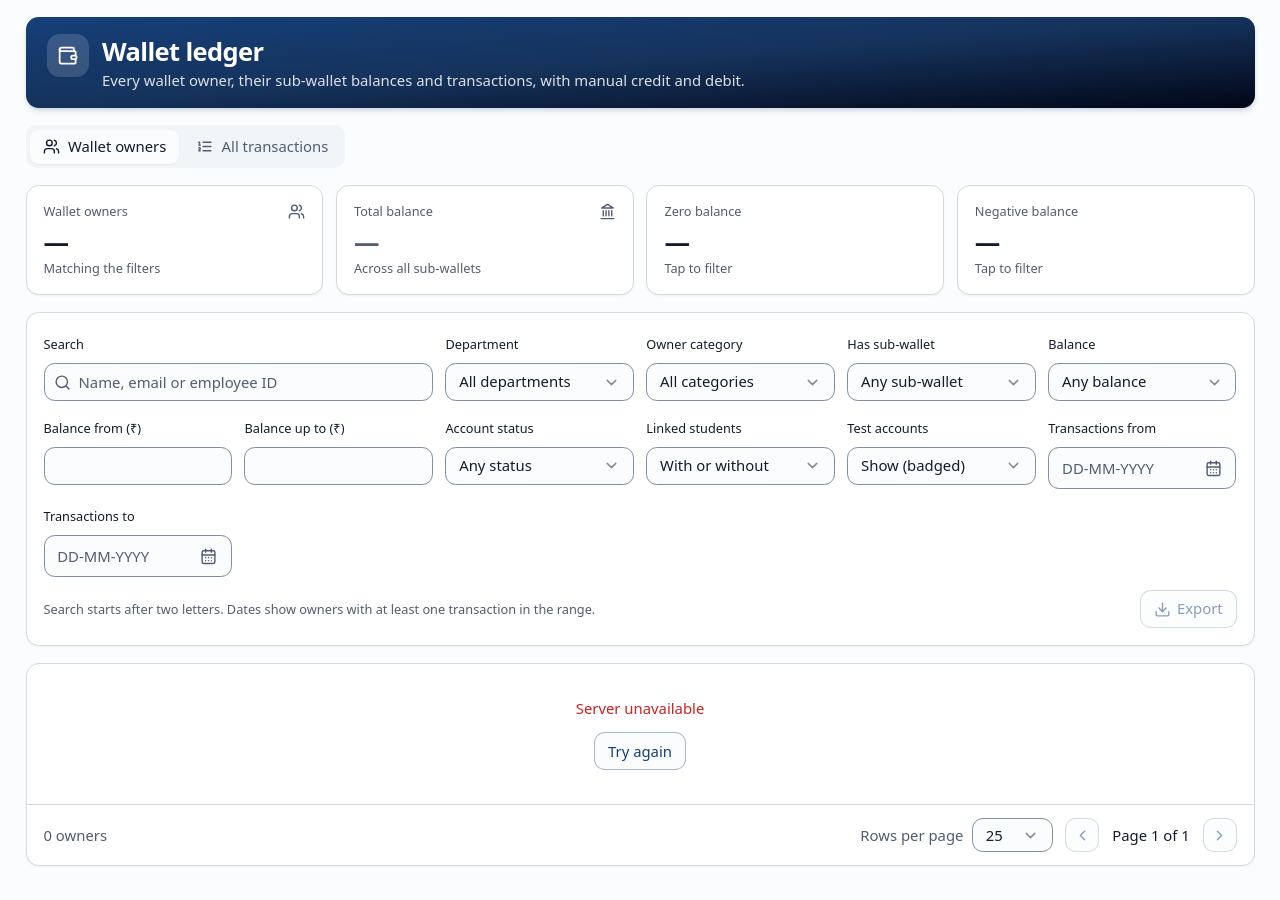
Scenario: Wallet owners › shows an error with a retry
Expected: the text "Server unavailable" is shown, [576,698,704,720]
Click the button "Try again".
click(640, 751)  # box [594,732,686,770]
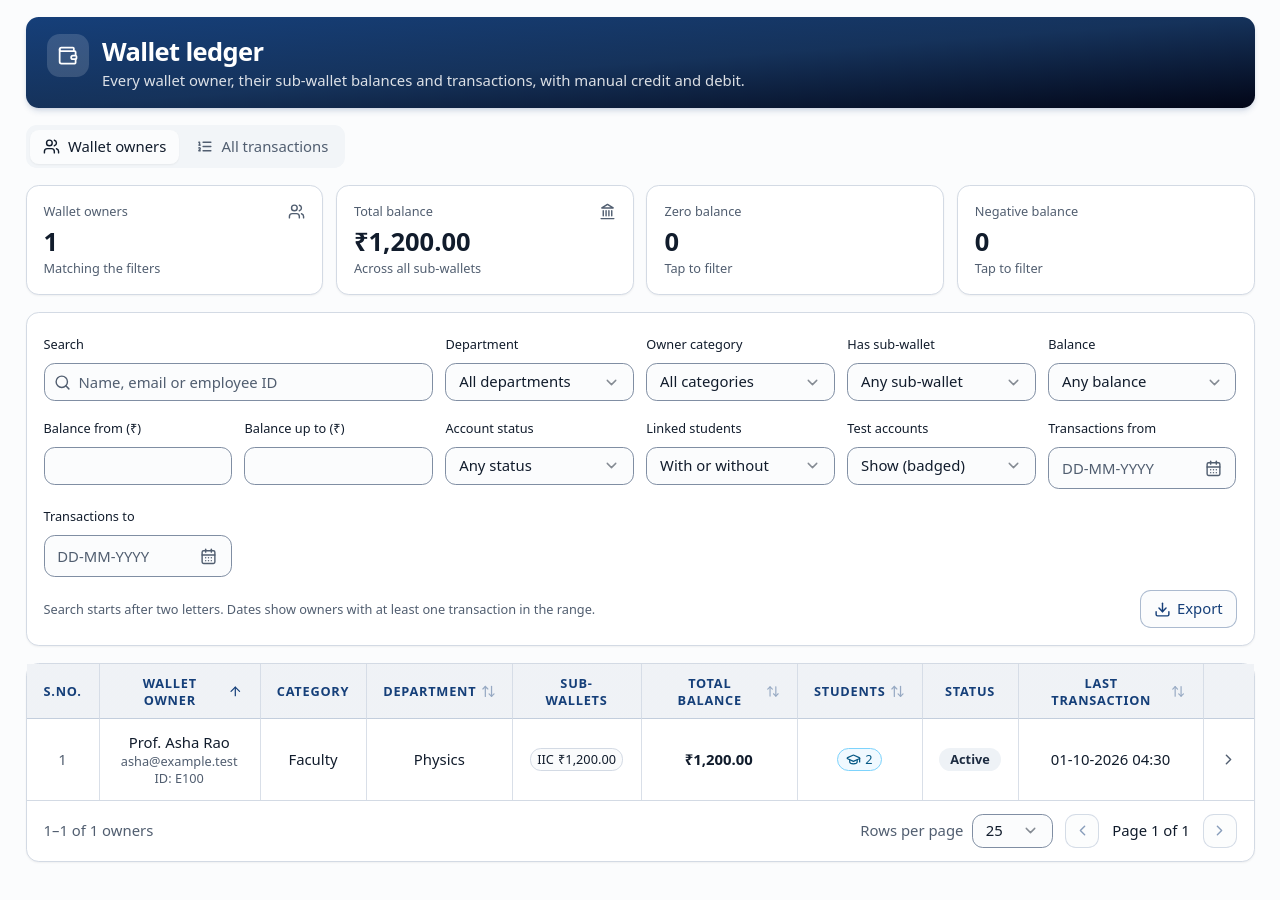
Expected: the text "Prof. Asha Rao" is shown, [129,732,230,752]
